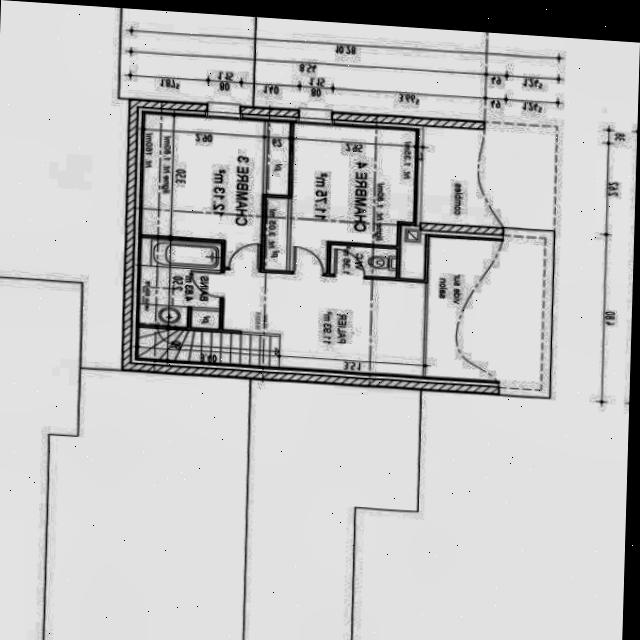room: (261, 122, 418, 279), (135, 114, 291, 271), (218, 270, 427, 377), (138, 238, 221, 329), (137, 328, 279, 367), (328, 245, 397, 278)
